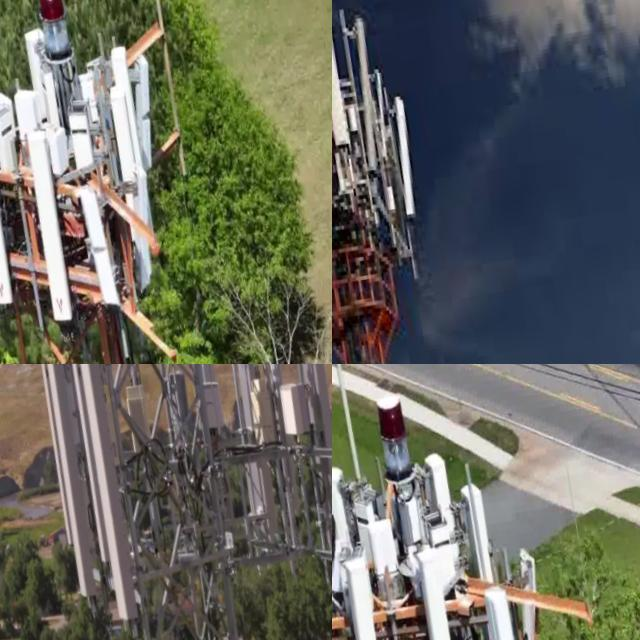GSM Antenna: (54, 364, 165, 611), (23, 364, 118, 589), (243, 364, 330, 566), (209, 364, 303, 550), (17, 122, 95, 332), (273, 364, 332, 561), (332, 8, 403, 171), (407, 536, 490, 640), (73, 169, 133, 311), (332, 546, 415, 640), (385, 87, 439, 220), (0, 106, 35, 310), (456, 474, 513, 585), (102, 80, 154, 198), (180, 364, 239, 440), (475, 575, 541, 640), (332, 0, 360, 145), (363, 509, 414, 582), (420, 443, 461, 516), (332, 450, 362, 542)
